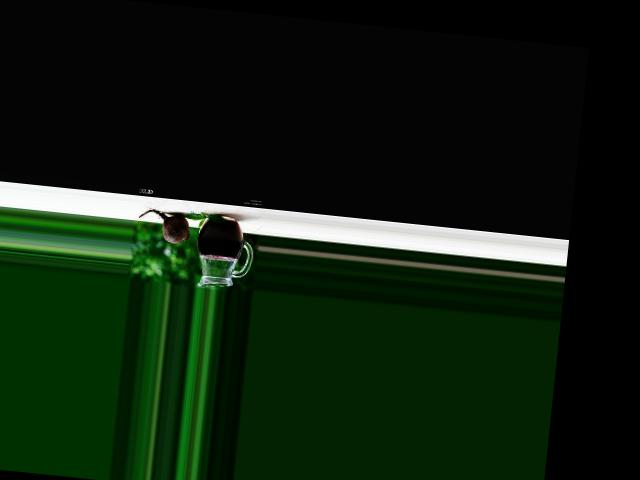beet: (137, 207, 192, 244)
